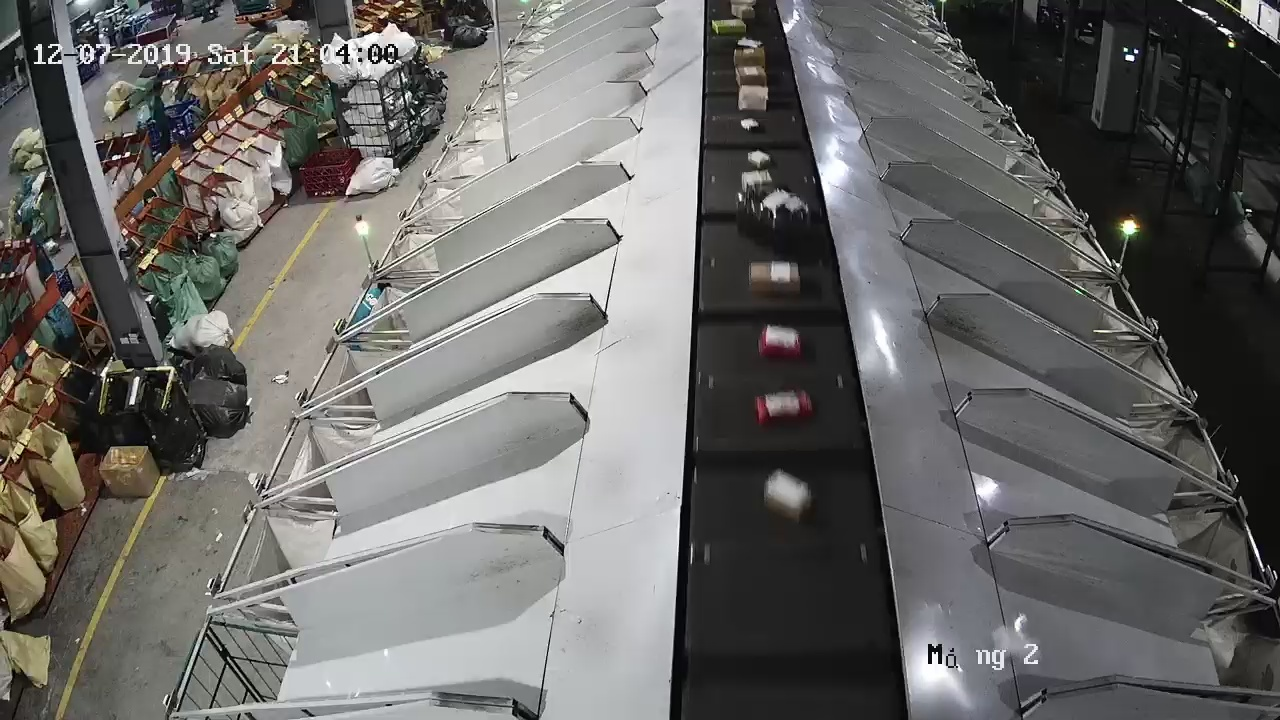parcel: (992, 625, 1041, 659)
